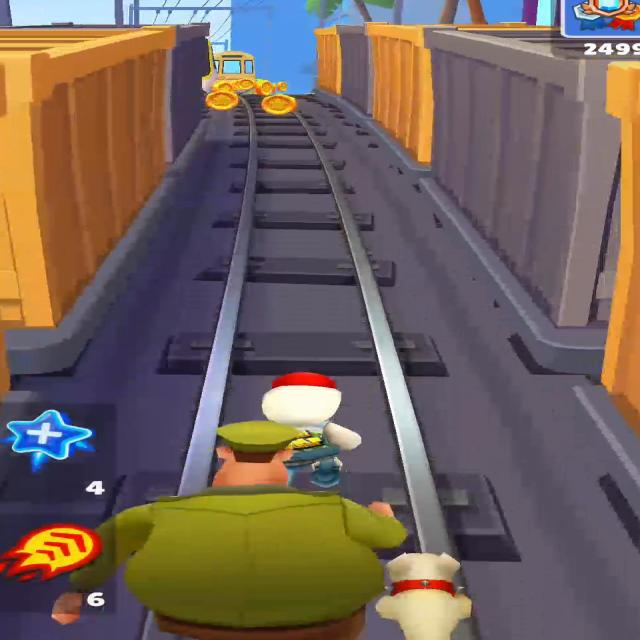police: (52, 418, 406, 640)
train: (316, 23, 639, 424), (0, 25, 209, 330), (211, 51, 256, 92)
